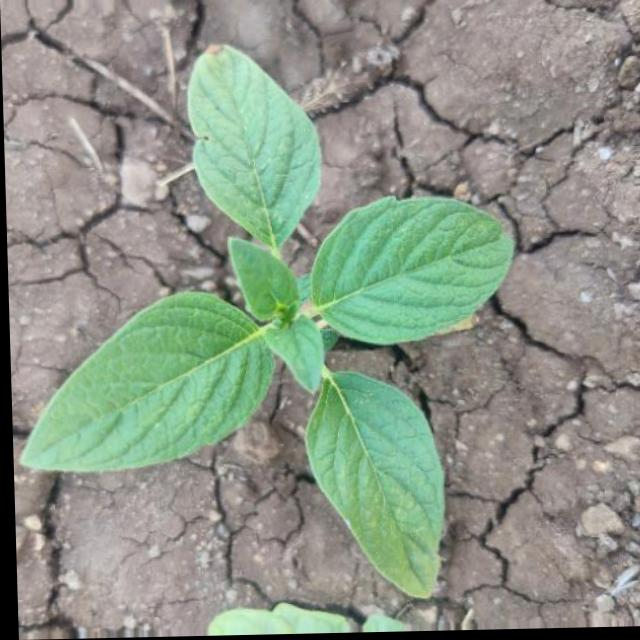crop: (17, 33, 526, 612)
